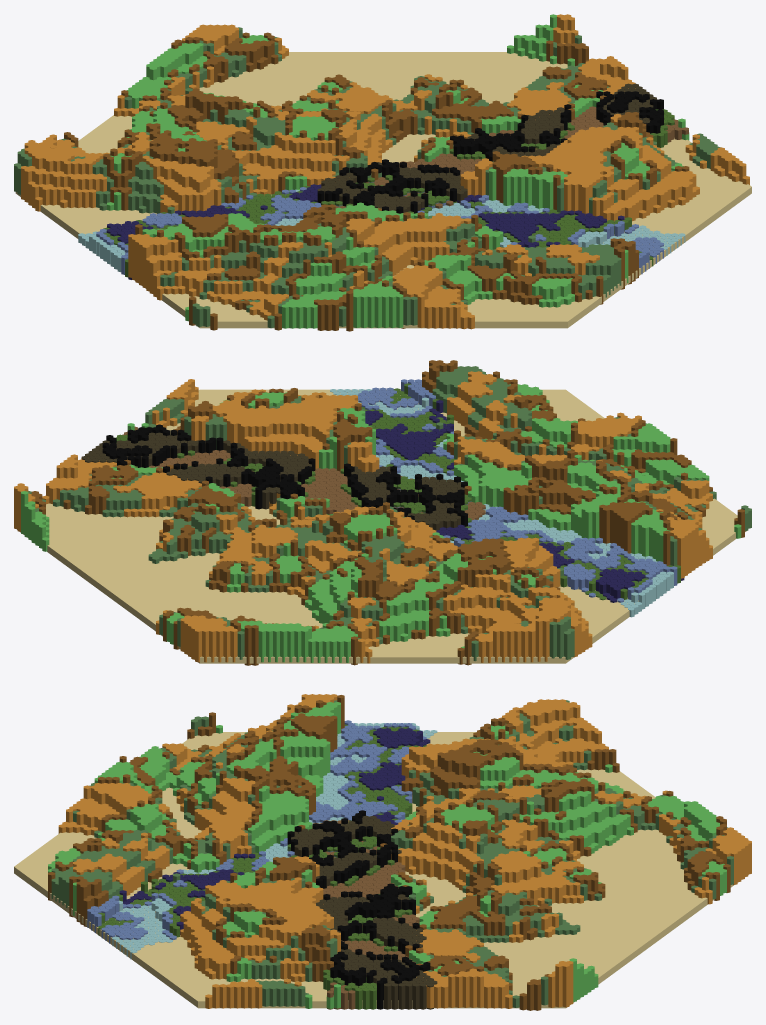
Rendered from 0047_tile_1202210.fbx.
The picture shows the model from 3 angles, top to bottom: view 1: azimuth 30°, elevation 25°; view 2: azimuth 150°, elevation 25°; view 3: azimuth 270°, elevation 25°; orthographic projection.
Parts seen in each view (by area): view 1: Plane; view 2: Plane; view 3: Plane.
Boxes of the visible parts, <box> form: Plane: <box>14,14,751,331</box>; Plane: <box>14,360,751,665</box>; Plane: <box>14,694,751,1010</box>.
Size of the model in its own units: 1008 by 85.33 by 1152.
